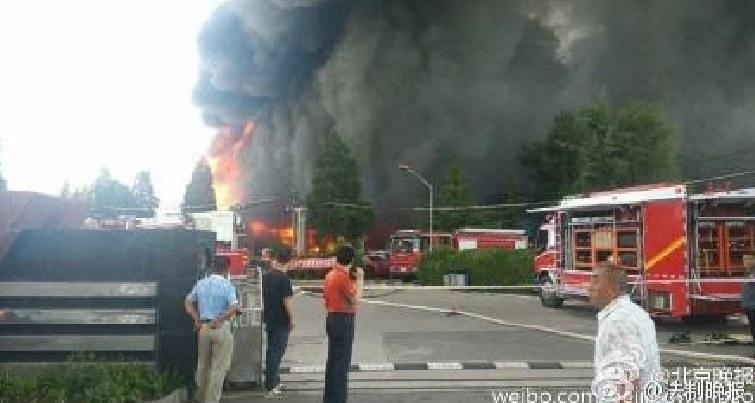fire: (253, 215, 334, 248)
